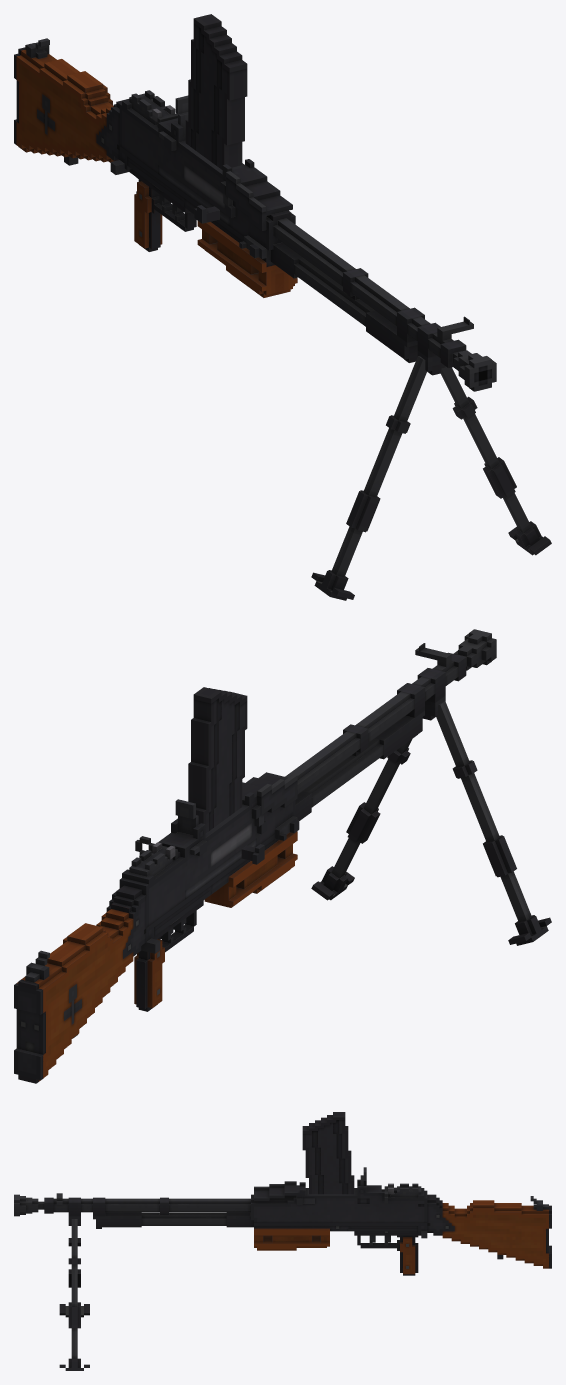
3 renders of one model, top to bottom at view 1: azimuth 30°, elevation 25°; view 2: azimuth 150°, elevation 25°; view 3: azimuth 270°, elevation 25°, orthographic. The views are drawn at different scales.
Parts seen in each view (by area): view 1: M1924, MAC_M1924_CLIP, MAC_M1924_DIPOD_LEG1, MAC_M1924_DIPOD_LEG2; view 2: M1924, MAC_M1924_CLIP, MAC_M1924_DIPOD_LEG1, MAC_M1924_DIPOD_LEG2; view 3: M1924, MAC_M1924_CLIP, MAC_M1924_DIPOD_LEG2, MAC_M1924_DIPOD_LEG1.
Part boxes in pixels (x1,y1,x2,y2): M1924: (14,38,496,391); MAC_M1924_CLIP: (185,14,247,169); MAC_M1924_DIPOD_LEG1: (311,356,426,600); MAC_M1924_DIPOD_LEG2: (440,366,551,555); M1924: (14,629,496,1083); MAC_M1924_CLIP: (188,687,247,833); MAC_M1924_DIPOD_LEG1: (436,701,551,945); MAC_M1924_DIPOD_LEG2: (311,738,412,900); M1924: (14,1167,551,1275); MAC_M1924_CLIP: (302,1112,354,1194); MAC_M1924_DIPOD_LEG2: (59,1219,89,1370); MAC_M1924_DIPOD_LEG1: (59,1238,89,1317).
Size of the model in its own units: 0.4827 by 0.8194 by 1.74.
1 material, 1 textured.
